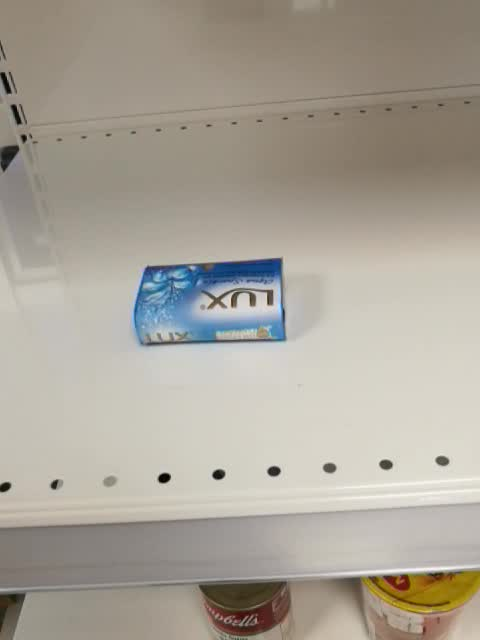soap: (132, 255, 292, 345)
